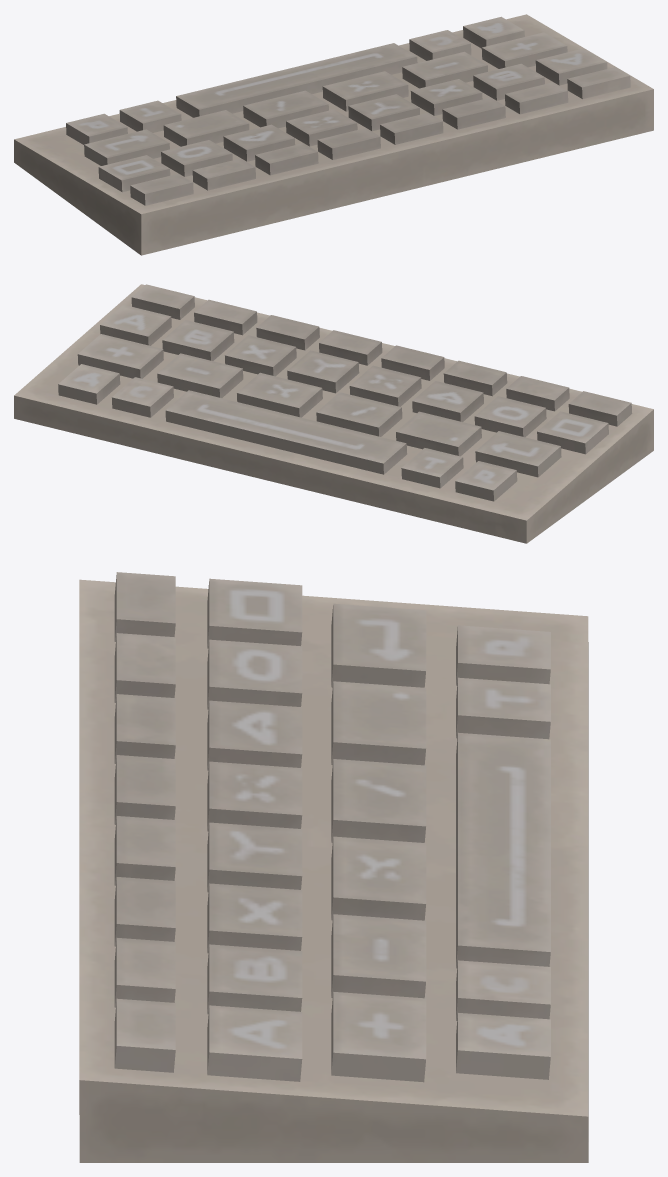
File: Pfb_Computer__25.fbx
The picture shows the model from 3 angles, top to bottom: view 1: azimuth 30°, elevation 25°; view 2: azimuth 150°, elevation 25°; view 3: azimuth 270°, elevation 25°; orthographic projection. The views are drawn at different scales.
Parts seen in each view (by area): view 1: Mat_Computer_01_02_2; view 2: Mat_Computer_01_02_2; view 3: Mat_Computer_01_02_2.
Part boxes in pixels (x1,y1,x2,y2): Mat_Computer_01_02_2: (14,14,653,255); Mat_Computer_01_02_2: (14,284,653,543); Mat_Computer_01_02_2: (79,572,588,1162).
Bounding box in the file's own units: 0.707 × 0.0679 × 0.304.
1 material, 1 textured.
